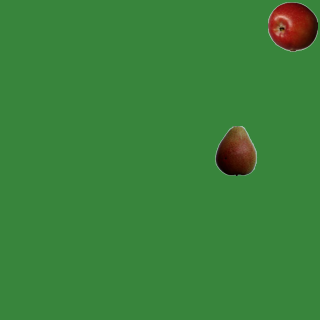Apple Braeburn: (267, 1, 317, 51)
Pear Forelle: (210, 125, 260, 175)
